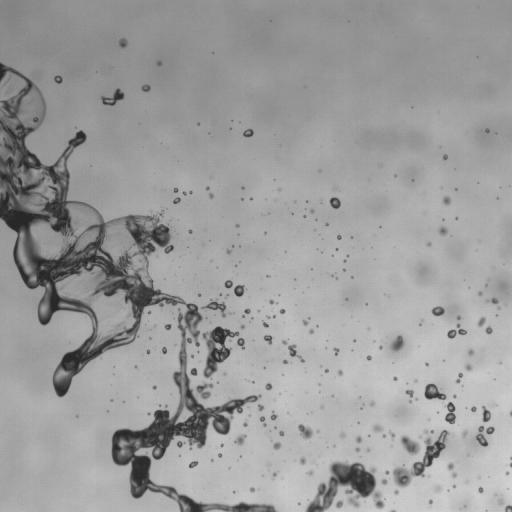droplet: (305, 462, 384, 511), (202, 326, 237, 378), (400, 435, 420, 455), (475, 426, 494, 446), (424, 383, 446, 400), (196, 382, 213, 399), (447, 323, 466, 338), (298, 424, 313, 440), (391, 335, 404, 351), (234, 285, 245, 297), (234, 434, 246, 445), (482, 406, 490, 422), (329, 197, 340, 208), (432, 306, 444, 316), (477, 316, 485, 327), (438, 226, 447, 235), (243, 129, 253, 137), (373, 424, 383, 432), (237, 337, 244, 348), (119, 38, 127, 47), (442, 196, 450, 205), (405, 389, 414, 397), (54, 75, 62, 83), (224, 280, 232, 288), (264, 335, 272, 343), (335, 500, 343, 508), (141, 84, 150, 91), (189, 461, 198, 468), (485, 326, 492, 334), (270, 412, 277, 420), (273, 442, 281, 449), (389, 431, 395, 440), (243, 308, 250, 315), (265, 383, 272, 390), (434, 485, 441, 492), (447, 462, 453, 470), (173, 197, 180, 203), (164, 324, 171, 330), (465, 364, 472, 370), (356, 436, 362, 443), (177, 441, 184, 447), (299, 457, 305, 464), (381, 478, 387, 484), (505, 505, 511, 511), (161, 347, 166, 354), (258, 404, 263, 411), (462, 430, 467, 437), (468, 349, 473, 355), (307, 470, 313, 475), (478, 487, 483, 493), (269, 299, 274, 304), (280, 309, 285, 314), (263, 322, 268, 327), (471, 406, 476, 411), (423, 429, 428, 434), (340, 432, 345, 437), (498, 499, 503, 504), (303, 319, 307, 325), (334, 348, 338, 354), (443, 154, 447, 159), (173, 188, 178, 192), (209, 193, 213, 198), (227, 249, 231, 254), (240, 324, 244, 329), (282, 340, 287, 344), (367, 355, 371, 360), (338, 370, 342, 375), (243, 421, 247, 426), (279, 431, 283, 436), (452, 472, 456, 477), (250, 487, 254, 492), (157, 61, 161, 65), (485, 128, 489, 132), (188, 229, 192, 233), (337, 235, 341, 239), (427, 242, 431, 246), (478, 291, 482, 295), (309, 329, 313, 333), (393, 376, 397, 380), (152, 385, 156, 389), (356, 447, 360, 451), (385, 470, 389, 474), (394, 490, 398, 494), (428, 500, 432, 504), (310, 209, 313, 213), (146, 350, 150, 353), (283, 360, 287, 363), (371, 401, 374, 405), (218, 453, 221, 457), (509, 462, 511, 467), (206, 187, 209, 190), (183, 191, 186, 194), (198, 293, 201, 296), (225, 294, 228, 297), (147, 311, 150, 314), (457, 316, 460, 319), (325, 369, 328, 372), (414, 397, 417, 400), (382, 434, 385, 437), (505, 471, 508, 474), (273, 473, 276, 476), (278, 188, 280, 191), (189, 191, 192, 193), (236, 224, 238, 227), (266, 316, 269, 318), (379, 346, 382, 348), (425, 363, 428, 365), (453, 395, 456, 397), (494, 403, 496, 406), (220, 444, 223, 446), (326, 223, 328, 225), (126, 239, 128, 241), (267, 275, 269, 277), (409, 400, 411, 402), (316, 430, 318, 432), (431, 430, 433, 432), (367, 448, 369, 450), (453, 485, 455, 487)
ligament: (0, 62, 277, 511), (391, 430, 448, 487), (101, 88, 124, 105), (288, 344, 304, 362), (444, 402, 455, 423), (487, 298, 498, 304), (456, 372, 462, 383), (260, 416, 265, 426), (509, 411, 511, 416), (390, 510, 395, 511)
